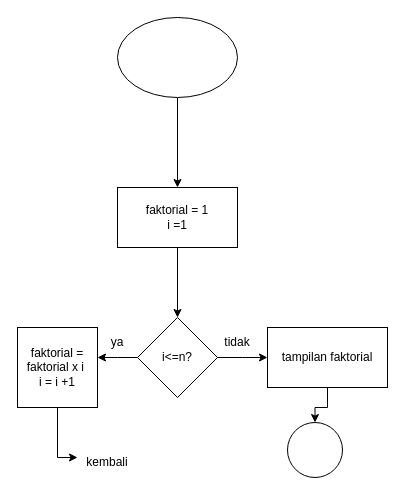
This 405x495 diagram has some shape labels left out. Each missing label, with the box of its shape:
inpput n: (116, 16, 238, 98)
selesai: (286, 422, 342, 478)
